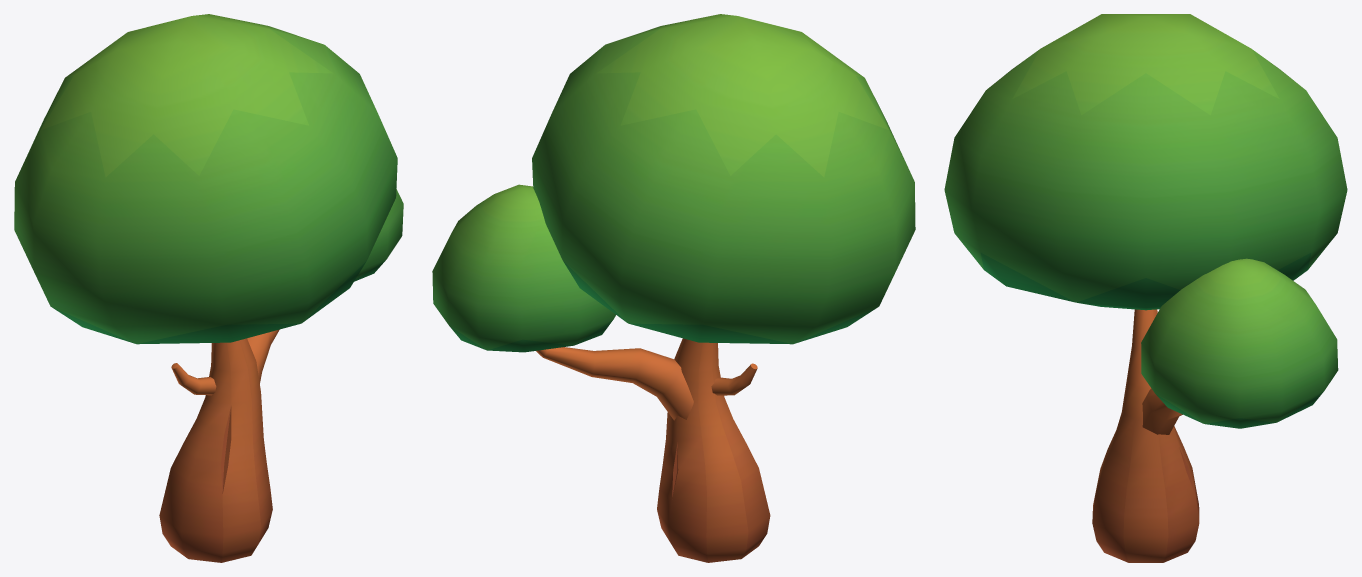
File: Tree_1_B_Color1.gltf
The picture shows the model from 3 angles, left to right: view 1: azimuth 30°, elevation 25°; view 2: azimuth 150°, elevation 25°; view 3: azimuth 270°, elevation 25°; orthographic projection.
Parts seen in each view (by area): view 1: Tree_1_B_Color1; view 2: Tree_1_B_Color1; view 3: Tree_1_B_Color1.
Part boxes in pixels (bbox=[...]): Tree_1_B_Color1: bbox=[14, 14, 403, 562]; Tree_1_B_Color1: bbox=[432, 14, 915, 562]; Tree_1_B_Color1: bbox=[944, 14, 1347, 562].
Bounding box in the file's own units: 4.01 × 4.93 × 3.45.
1 material, 1 textured.
